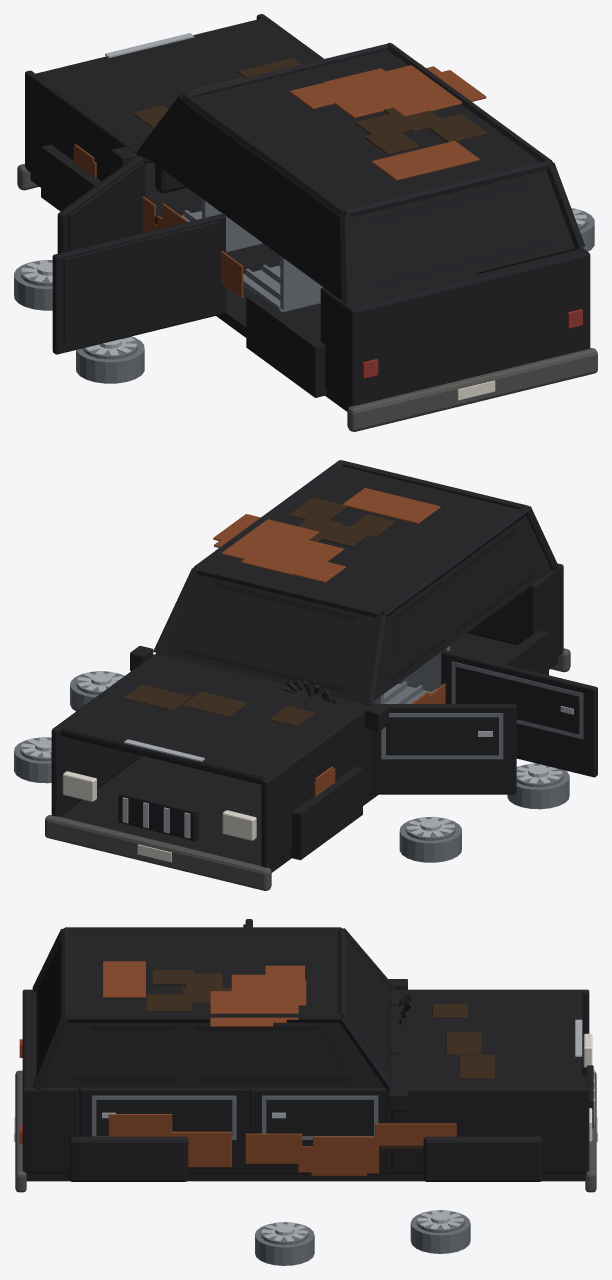
Rendered from car_jam_hatch_burnt.glb.
3 views of the same model, one above another, from view 1: azimuth 30°, elevation 25°; view 2: azimuth 150°, elevation 25°; view 3: azimuth 270°, elevation 25° (orthographic). The views are drawn at different scales.
Visible parts, largest first — view 1: car_jam_hatch_burnt; view 2: car_jam_hatch_burnt; view 3: car_jam_hatch_burnt.
Boxes of the visible parts, x1,y1,x2,y2 form: car_jam_hatch_burnt: (14,14,597,431); car_jam_hatch_burnt: (14,460,597,890); car_jam_hatch_burnt: (14,919,597,1265).
Size of what is drawn, in the model's own units: 3.92 by 1.41 by 4.12.
Materials: 2 (2 with a texture image).
